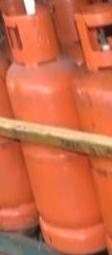cylinder: (1, 0, 112, 255)
